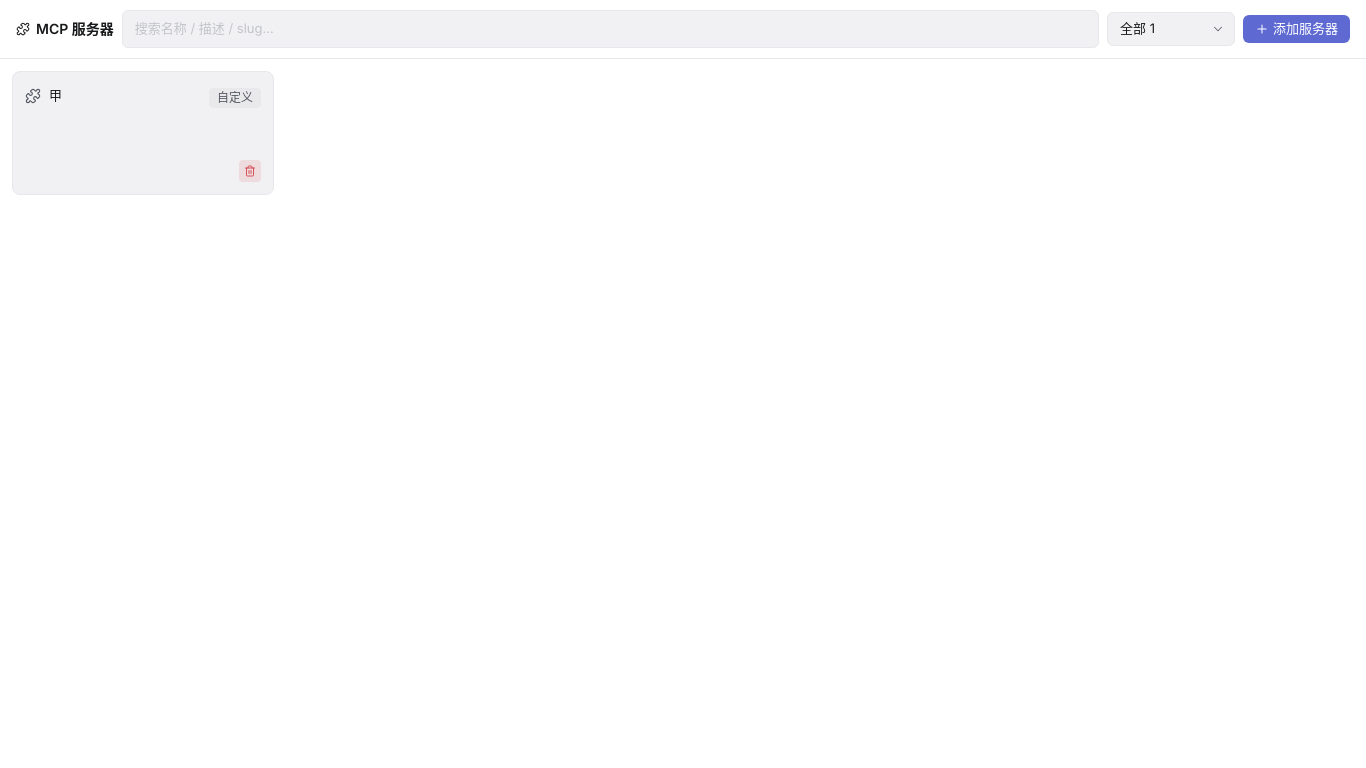
Test case: TypePageShell - 删除二次确认（P2.5 Task 4） › 确认 → 执行删除（ipc delete 桩收到 id）且弹窗消失
The image size is (1366, 768).
Click the button named "删除 甲": click(250, 170) x1=239 y1=160 x2=261 y2=182
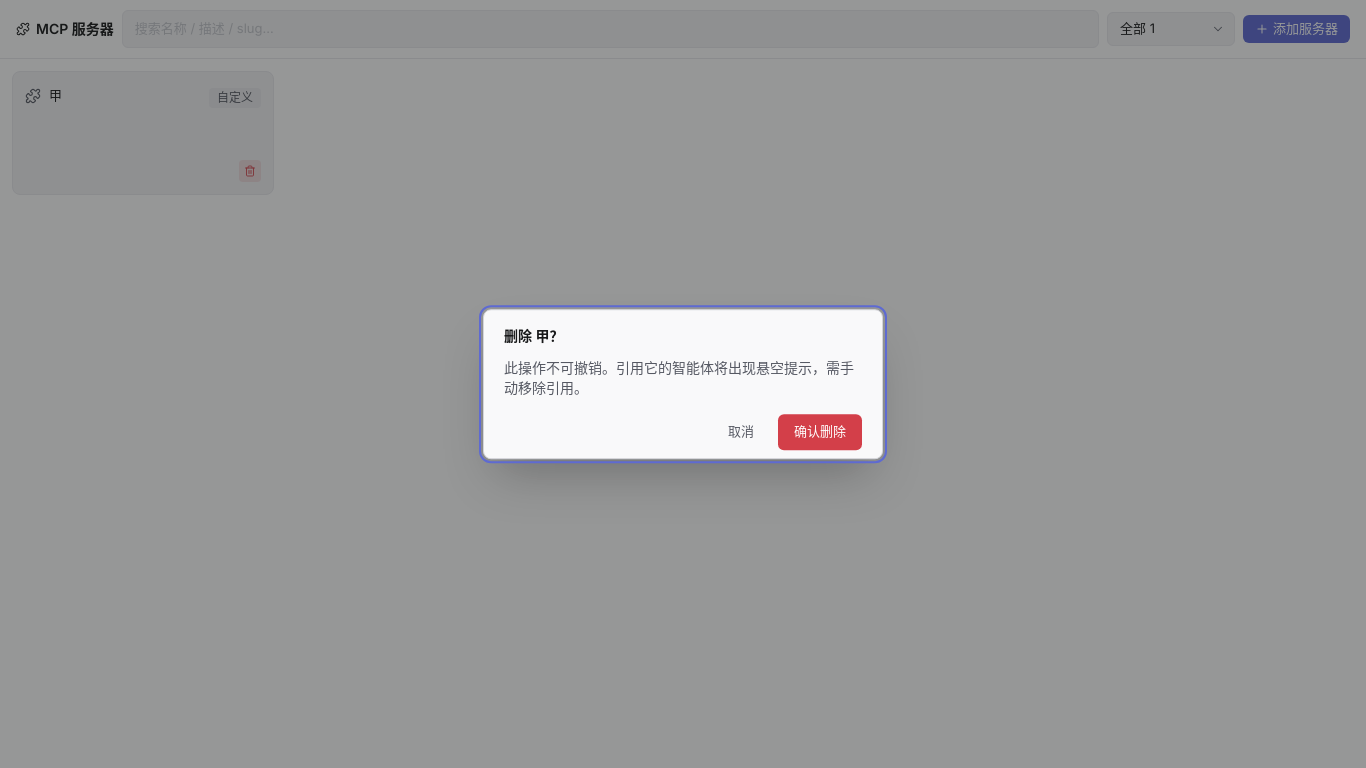
Click the button "确认删除": click(820, 432) x1=778 y1=414 x2=862 y2=450
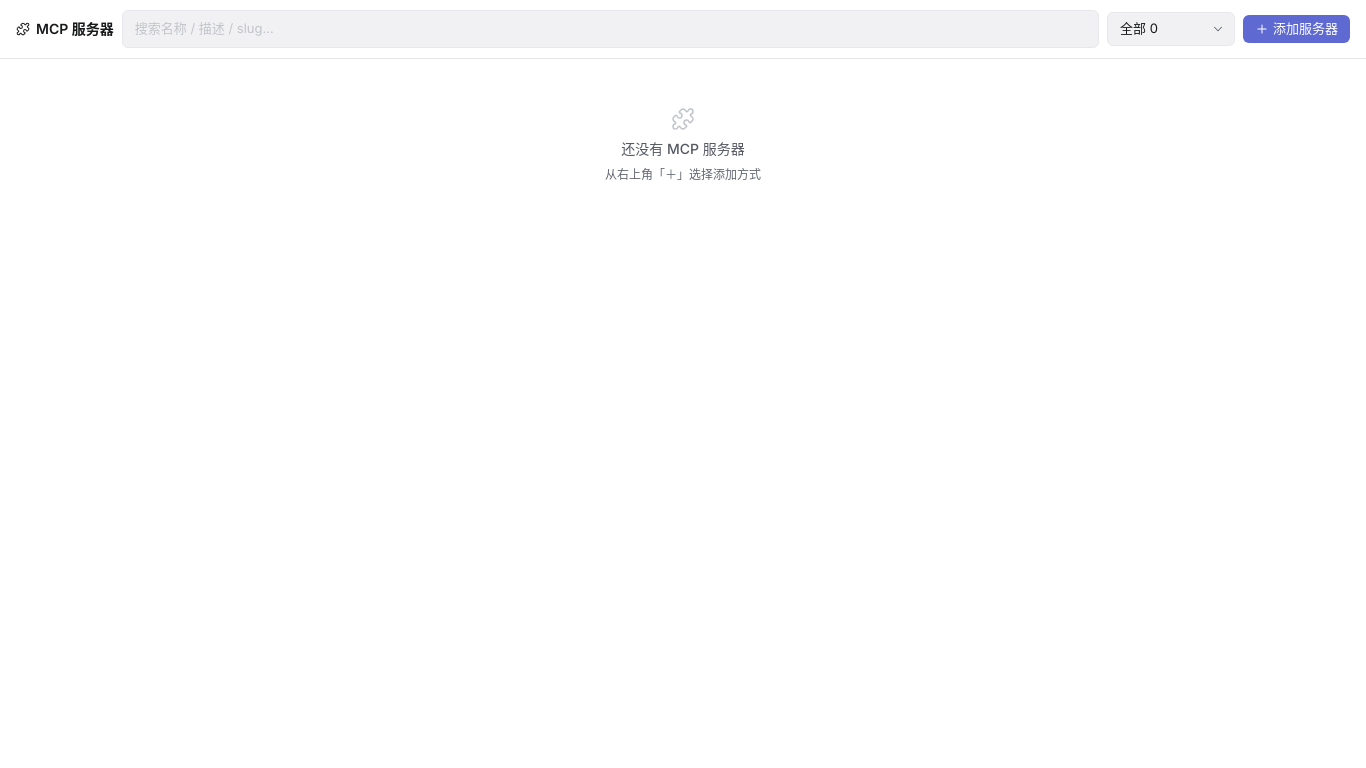
Now the dialog is gone
